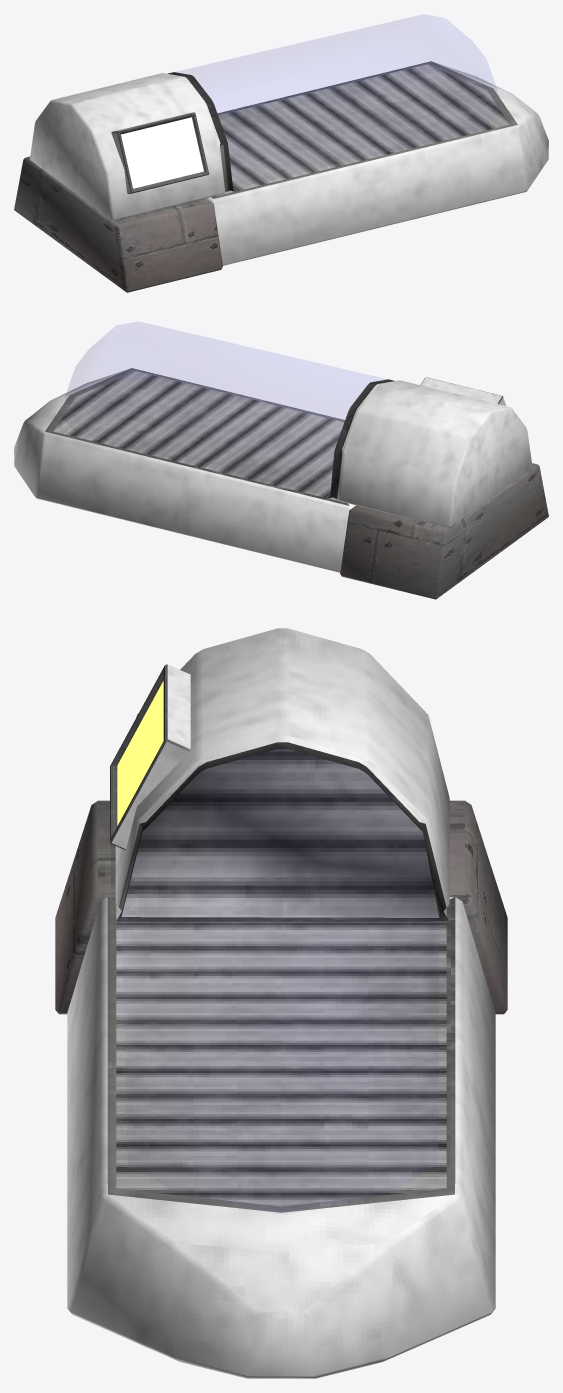
The model's file is radiation_capsule.glb.
3 renders of one model, top to bottom at view 1: azimuth 30°, elevation 25°; view 2: azimuth 150°, elevation 25°; view 3: azimuth 270°, elevation 25°, orthographic. The views are drawn at different scales.
Visible parts, largest first — view 1: Radiation Capsule; view 2: Radiation Capsule; view 3: Radiation Capsule.
Boxes of the visible parts, x1,y1,x2,y2 form: Radiation Capsule: (14, 15, 548, 292); Radiation Capsule: (14, 322, 548, 599); Radiation Capsule: (55, 628, 507, 1378).
Bounding box in the file's own units: 3.05 × 0.9129 × 1.27.
6 materials, 5 textured.
